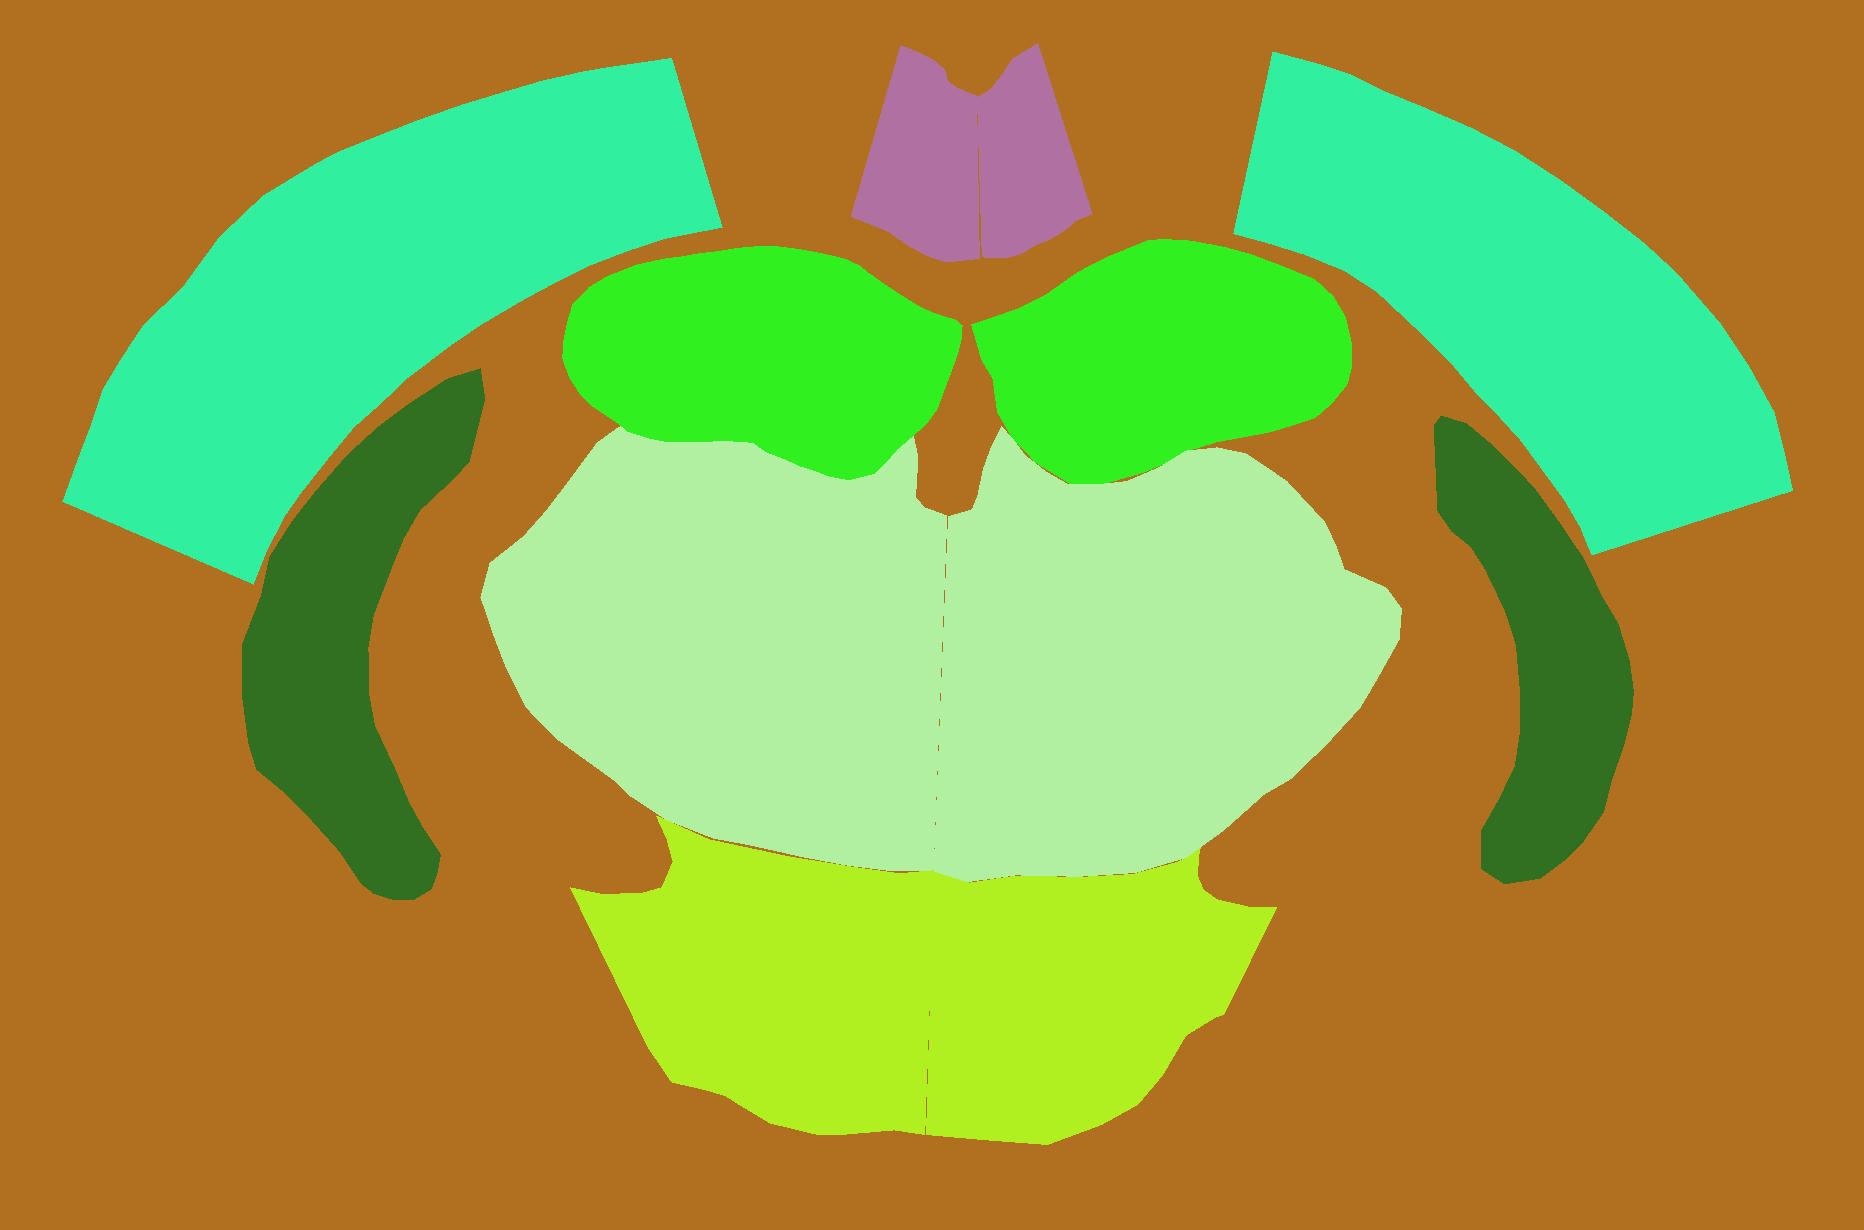Cerebral nuclei: (242, 368, 485, 901), (1434, 416, 1633, 885)
Hippocampal formation: (561, 246, 962, 480), (970, 239, 1352, 485)
Hypothalamus: (570, 815, 935, 1135), (927, 847, 1278, 1145)
Retrosplenial area: (851, 45, 980, 262), (977, 43, 1093, 258)
Somatosensory area: (62, 58, 722, 585), (1233, 51, 1793, 555)
Thalamus: (480, 415, 947, 872), (933, 426, 1401, 881)
